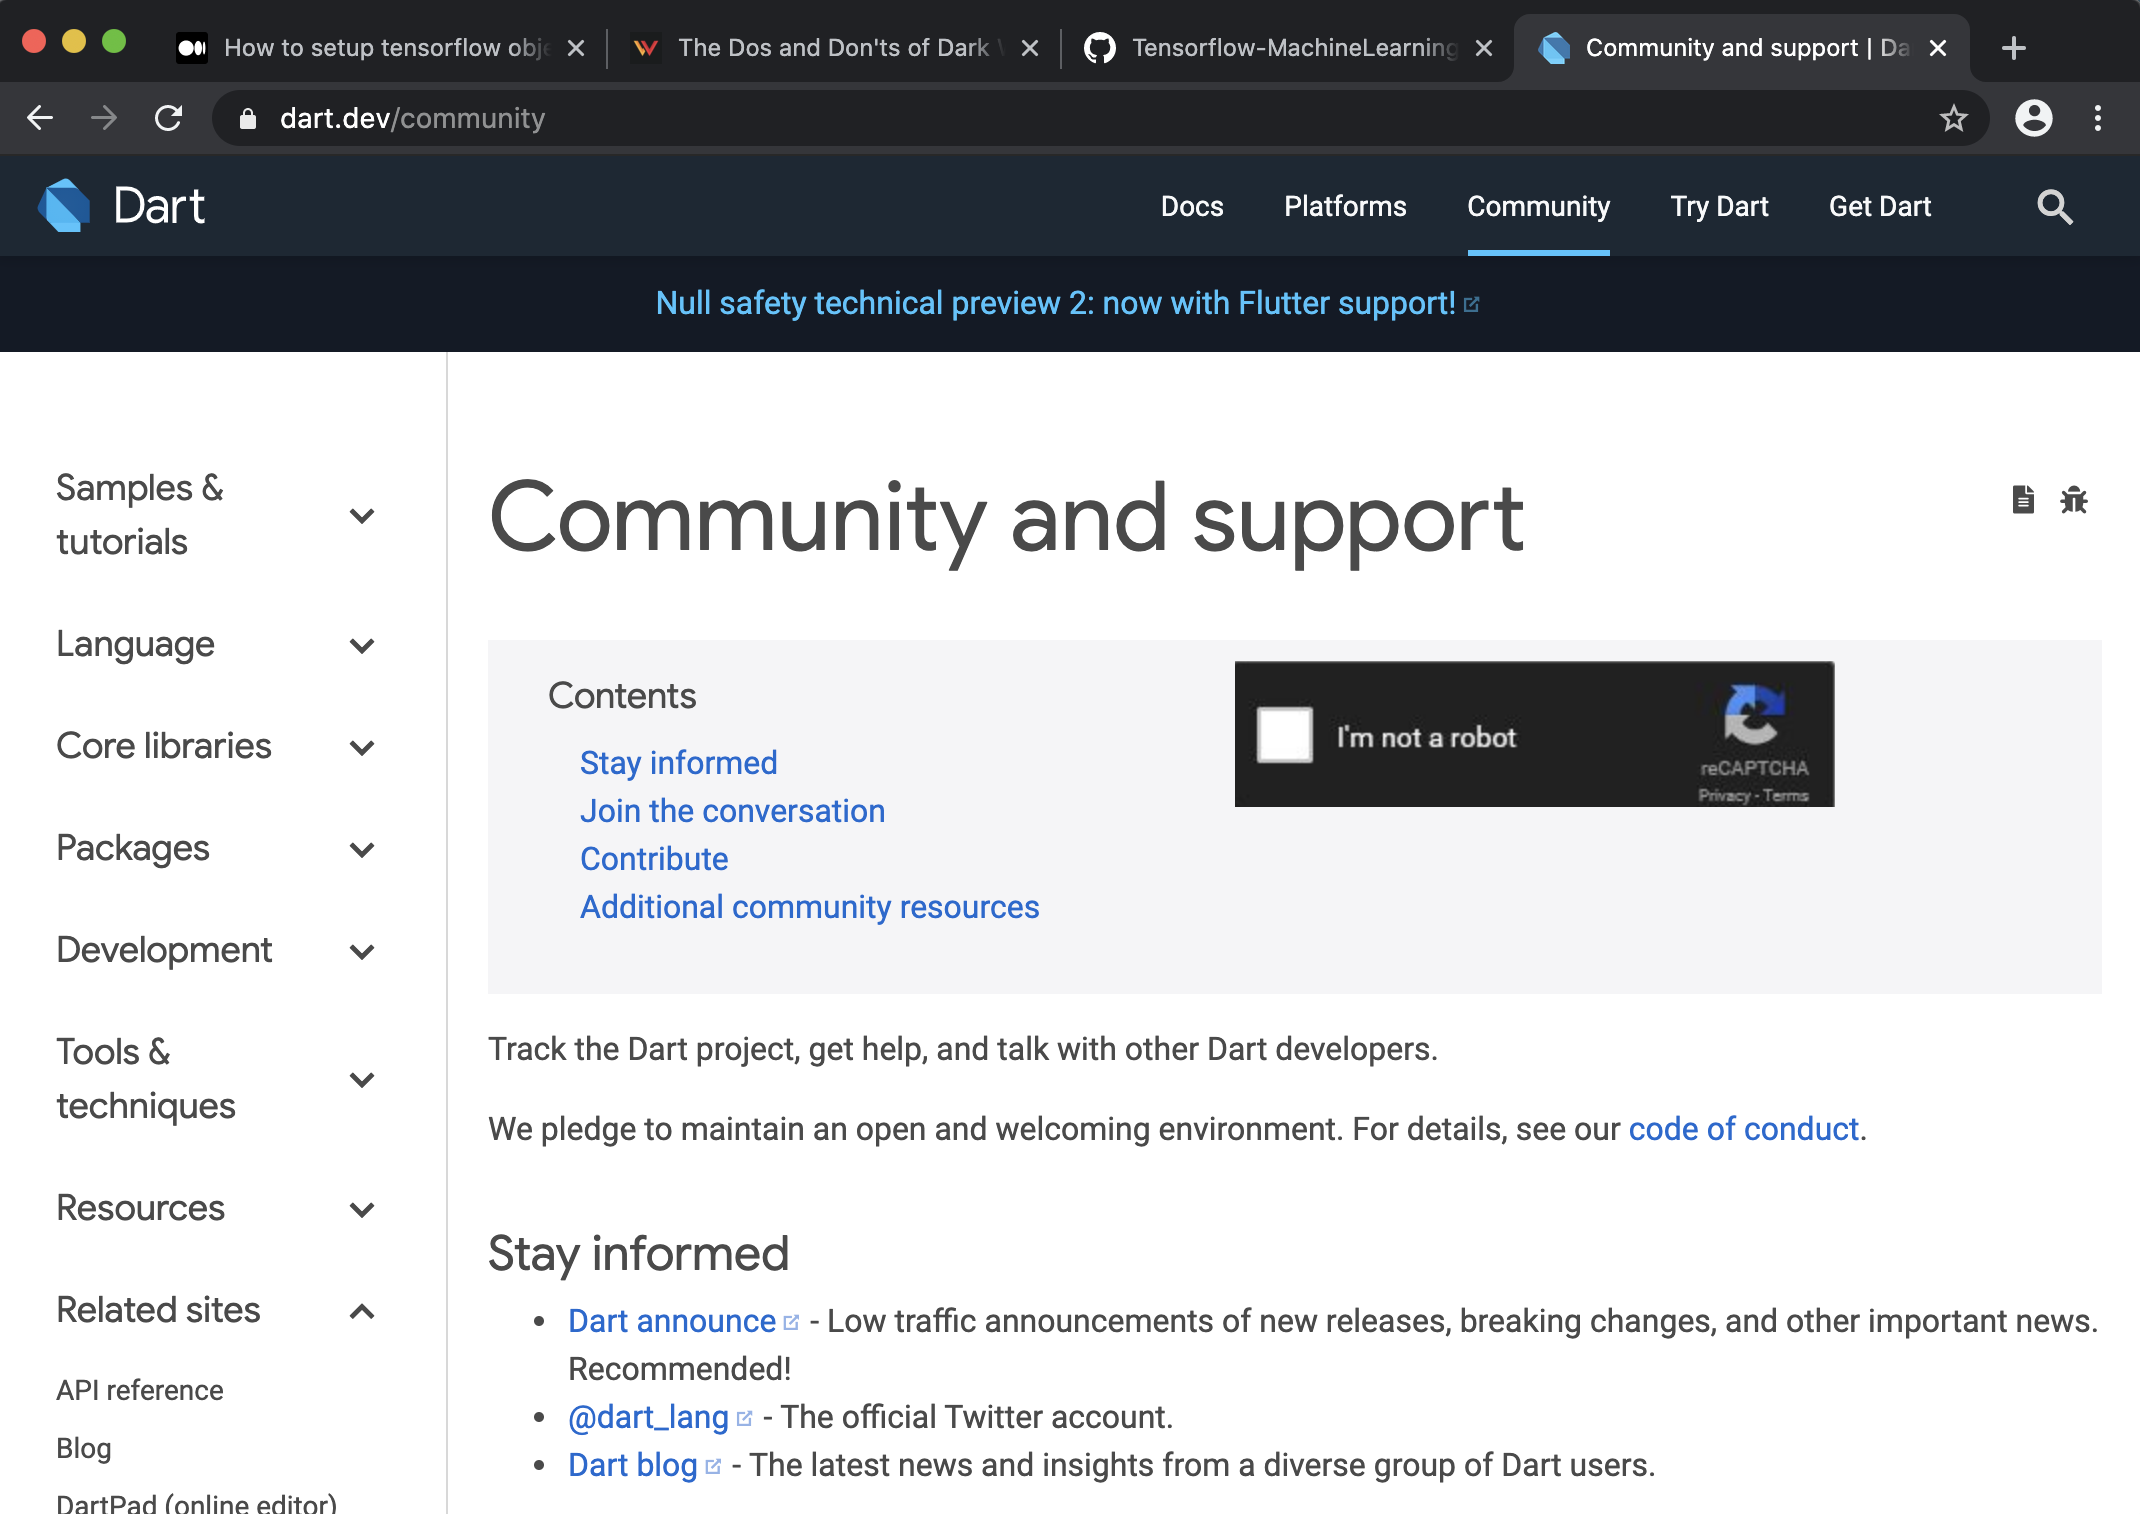captcha: (1221, 650, 1858, 826)
